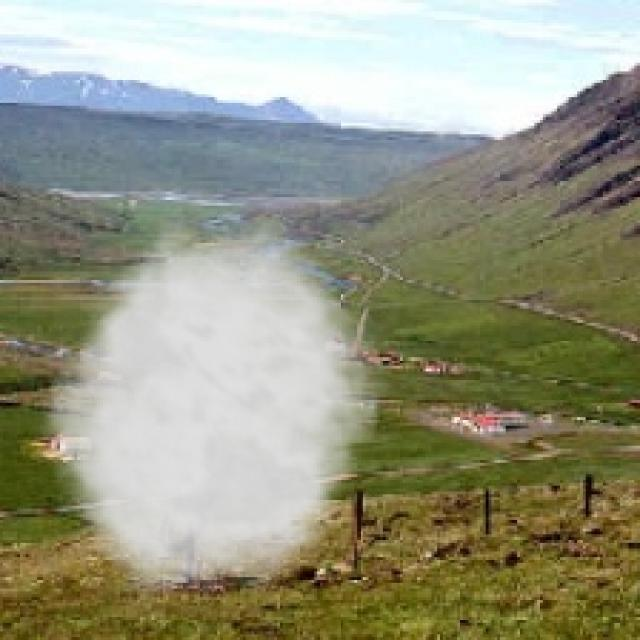Smoke: (34, 217, 397, 612)
